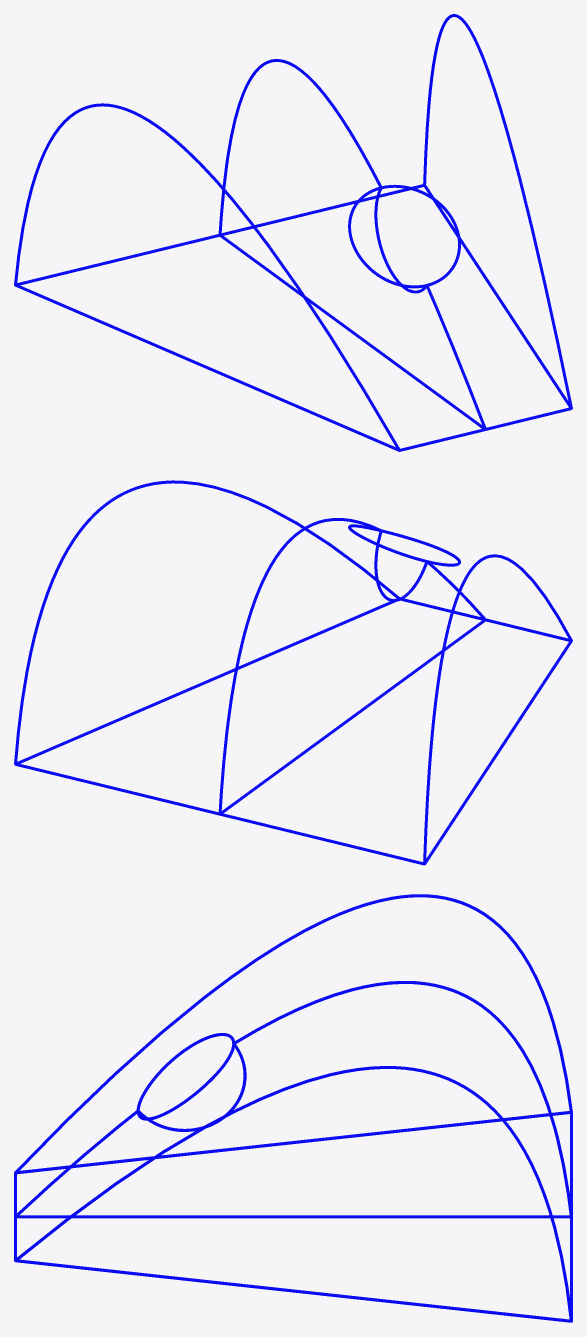
Rendered from onshape_simple_mouse.glb.
The picture shows the model from 3 angles, top to bottom: view 1: azimuth 30°, elevation 25°; view 2: azimuth 150°, elevation 25°; view 3: azimuth 270°, elevation 25°; orthographic projection. The views are drawn at different scales.
Visible parts, largest first — view 1: onshape_simple_mouse; view 2: onshape_simple_mouse; view 3: onshape_simple_mouse.
Part boxes in pixels (<box>): onshape_simple_mouse: <box>14,14,572,451</box>; onshape_simple_mouse: <box>14,480,572,865</box>; onshape_simple_mouse: <box>14,894,572,1322</box>.
Bounding box in the file's own units: 0.6317 × 0.3329 × 0.7096.
